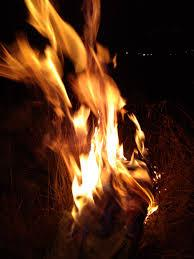fire: (7, 1, 161, 225)
